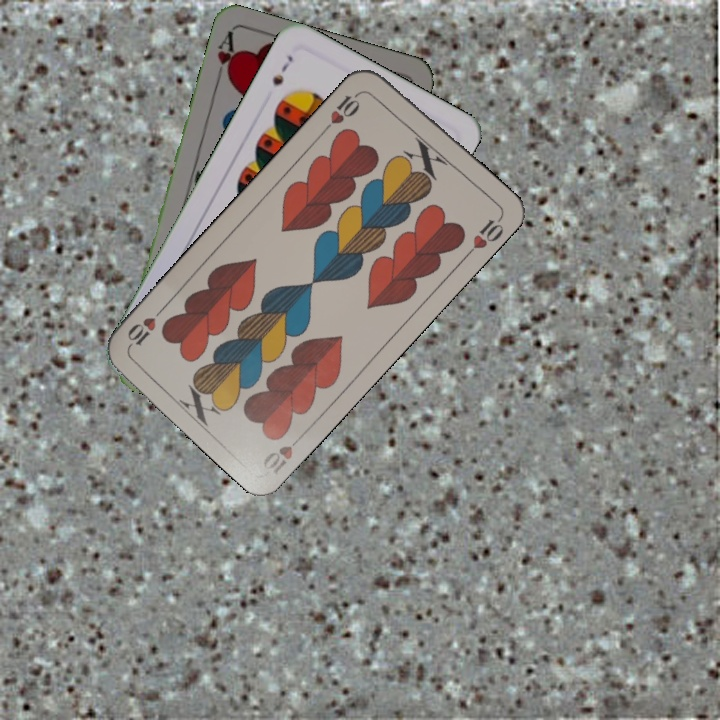H10: (258, 428, 308, 476), (320, 86, 366, 134)
HA: (211, 28, 240, 87)
S7: (268, 51, 296, 88)
